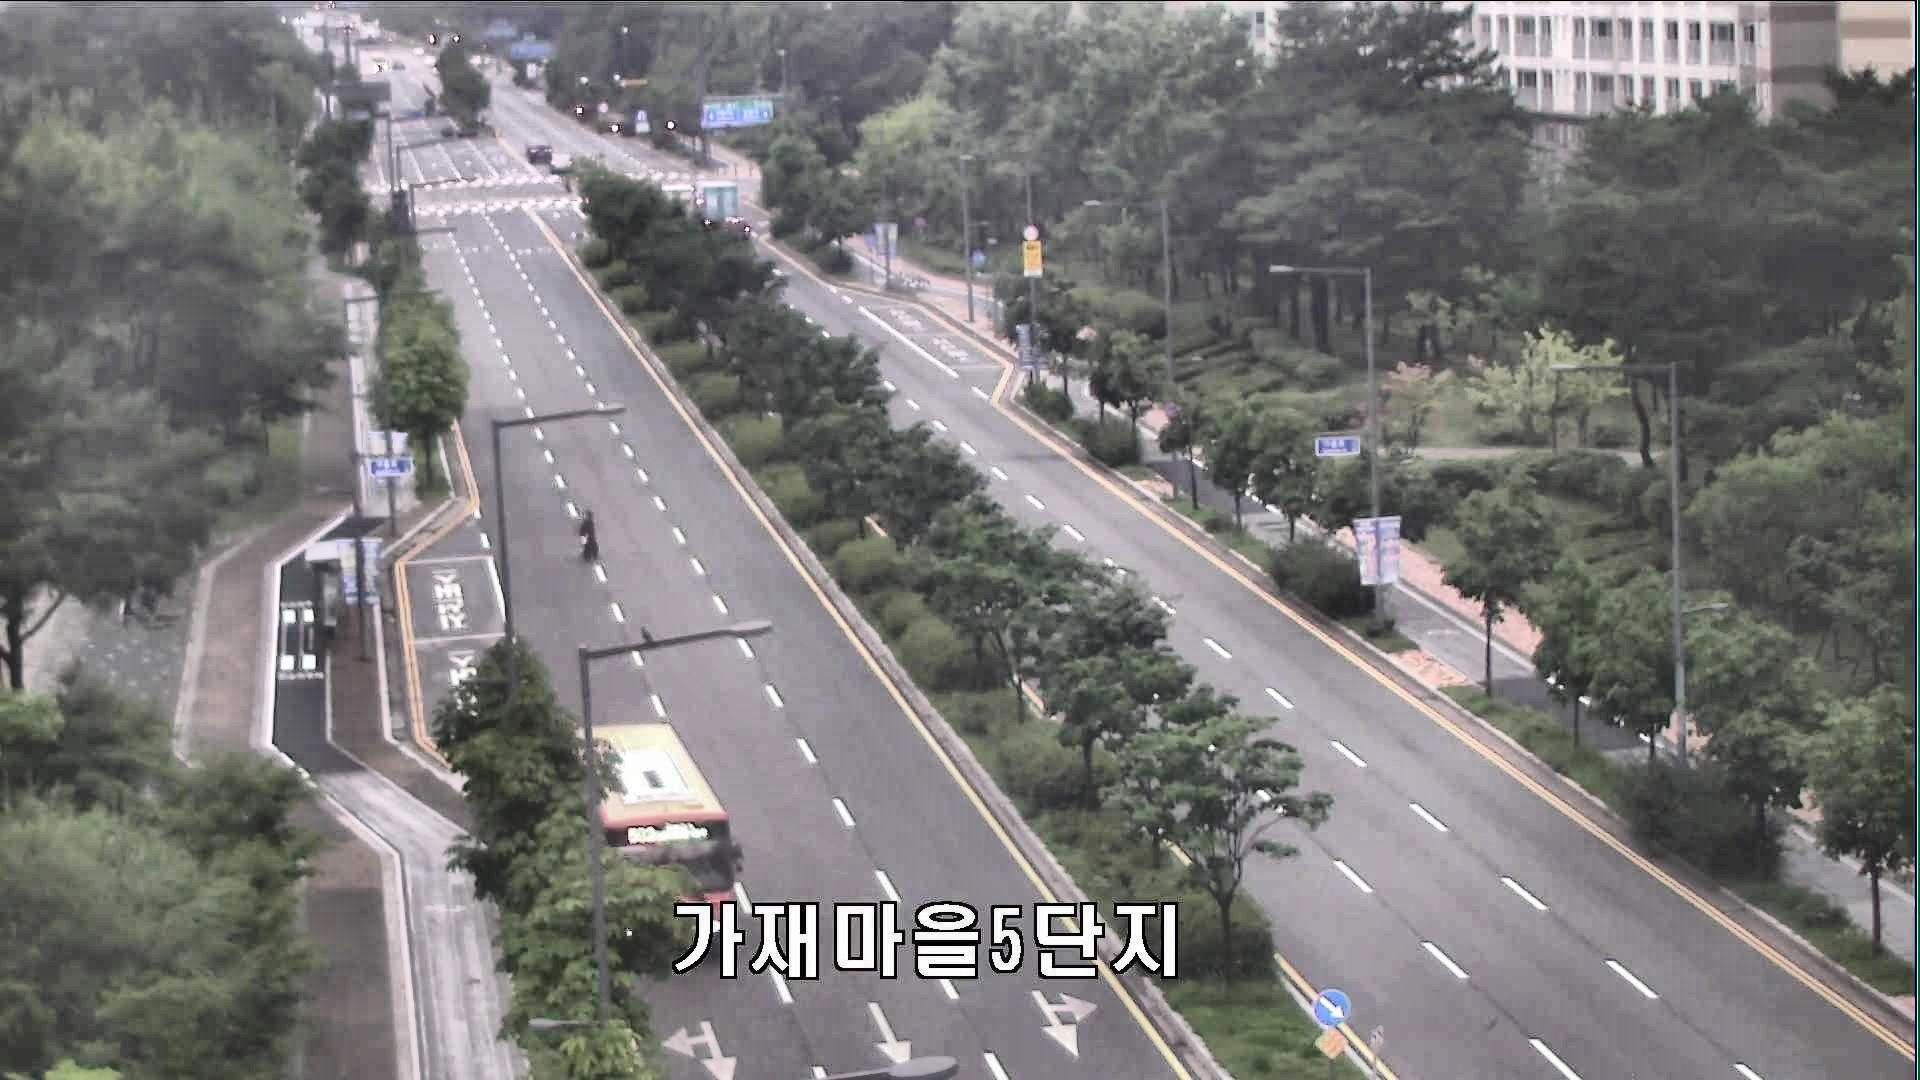jaywalk: (576, 508, 603, 563)
